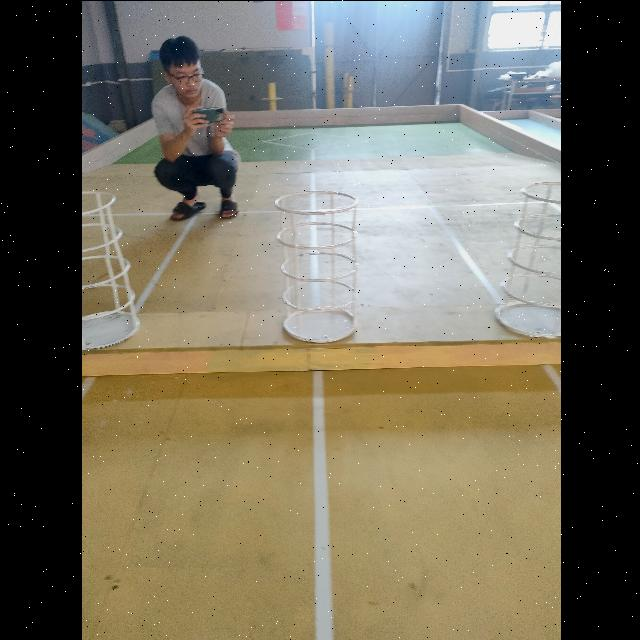S: (270, 184, 360, 348), (491, 179, 560, 338), (80, 189, 143, 351)
